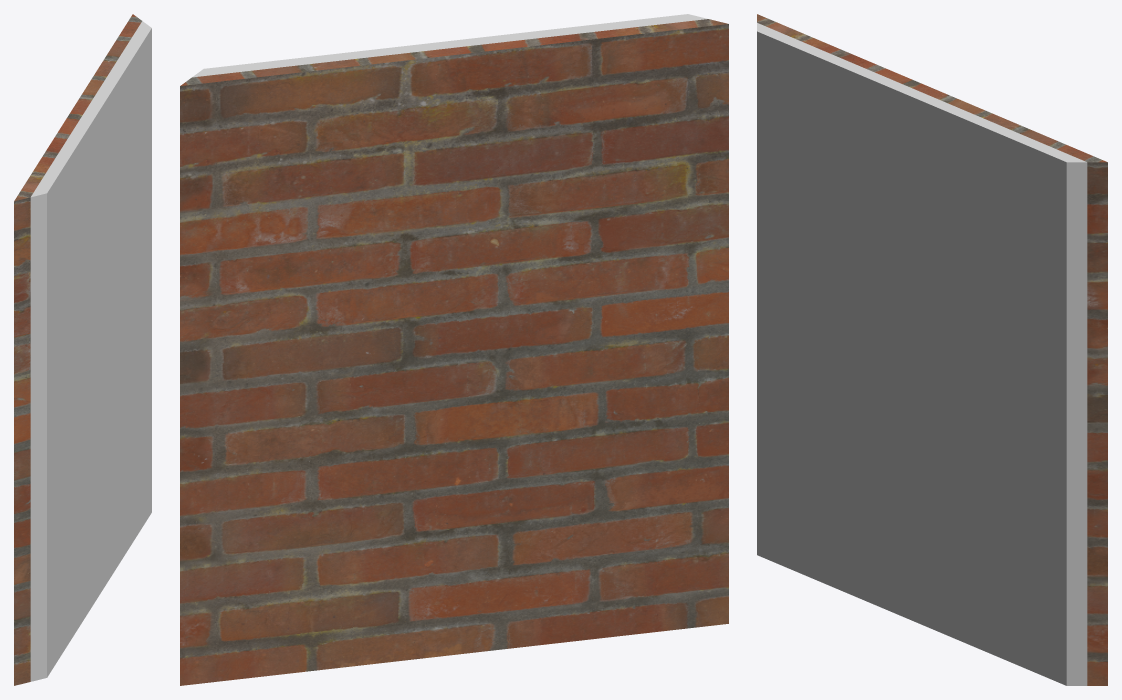
The model's file is Diagonal_Wall_complete.fbx.
3 renders of one model, left to right at view 1: azimuth 30°, elevation 25°; view 2: azimuth 150°, elevation 25°; view 3: azimuth 270°, elevation 25°, orthographic. The views are drawn at different scales.
Visible parts, largest first — view 1: Diagonal Wall; view 2: Diagonal Wall; view 3: Diagonal Wall.
Part boxes in pixels (x1,y1,x2,y2): Diagonal Wall: [14, 14, 151, 685]; Diagonal Wall: [180, 14, 728, 685]; Diagonal Wall: [757, 14, 1107, 685].
Size of the model in its own units: 425 by 700 by 425.
